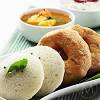idli: (17, 44, 64, 94), (1, 52, 42, 100)
